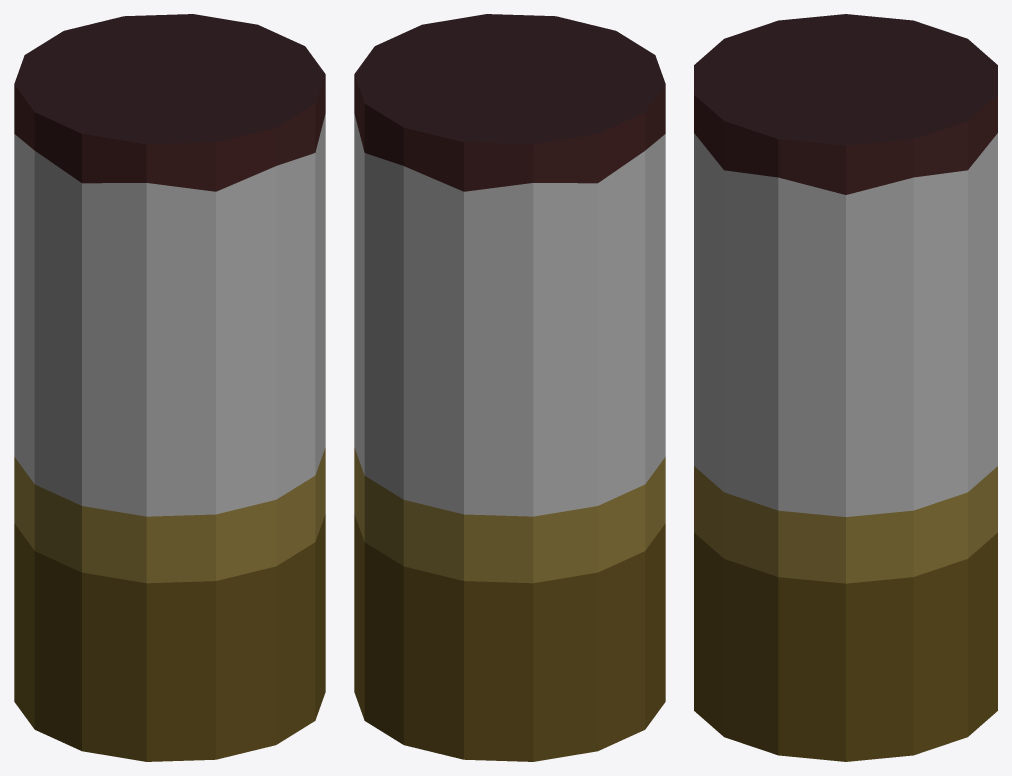
The model's file is Cigarette.FBX.
3 views of the same model, side by side, from view 1: azimuth 30°, elevation 25°; view 2: azimuth 150°, elevation 25°; view 3: azimuth 270°, elevation 25° (orthographic).
Parts seen in each view (by area): view 1: Cylinder001; view 2: Cylinder001; view 3: Cylinder001.
Boxes of the visible parts, x1=… form: Cylinder001: x1=14, y1=14, x2=325, y2=761; Cylinder001: x1=354, y1=14, x2=665, y2=761; Cylinder001: x1=694, y1=14, x2=997, y2=761.
Size of the model in its own units: 52.14 by 114 by 50.84.
